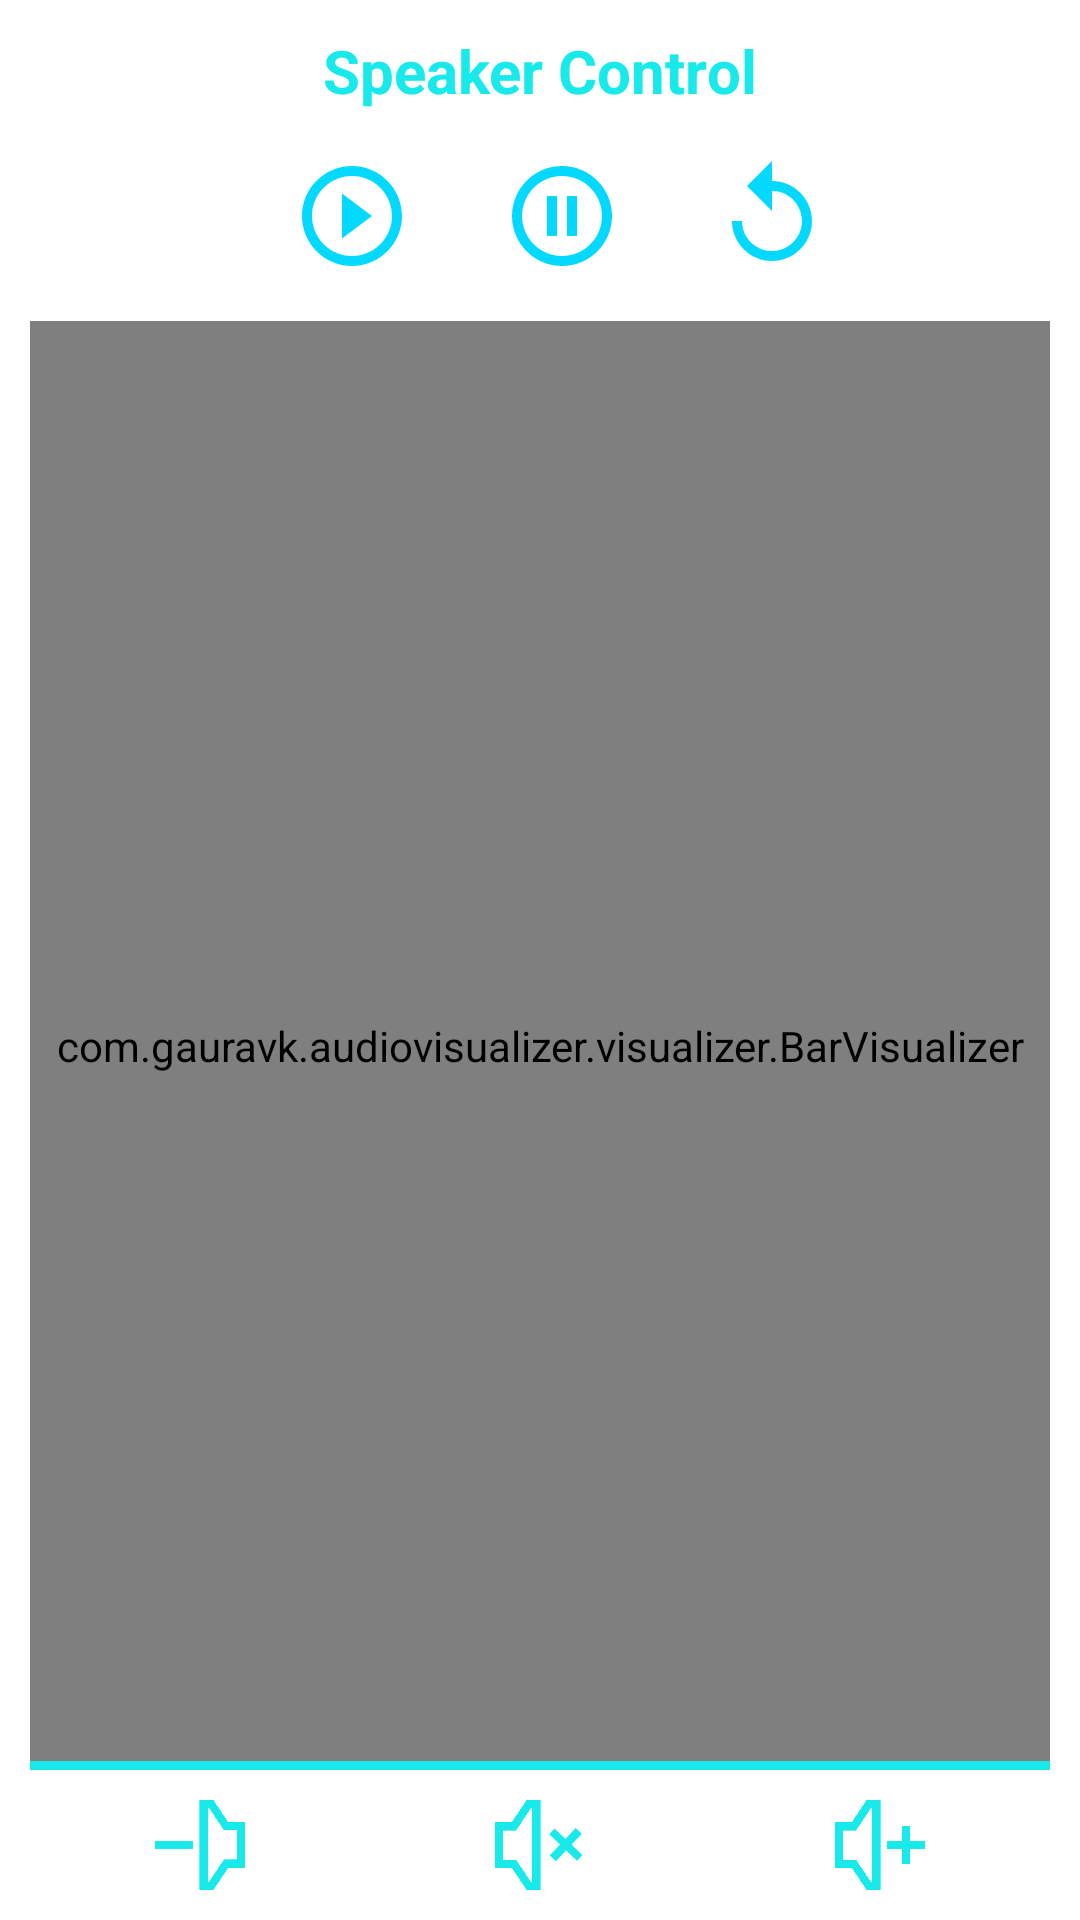

Named icons in this screenshot (1080x1920) and their centers, [x,y]:
music close: [539,1845]
music up: [880,1845]
pause circle: [562,216]
play circle: [352,216]
replay: [772,211]
